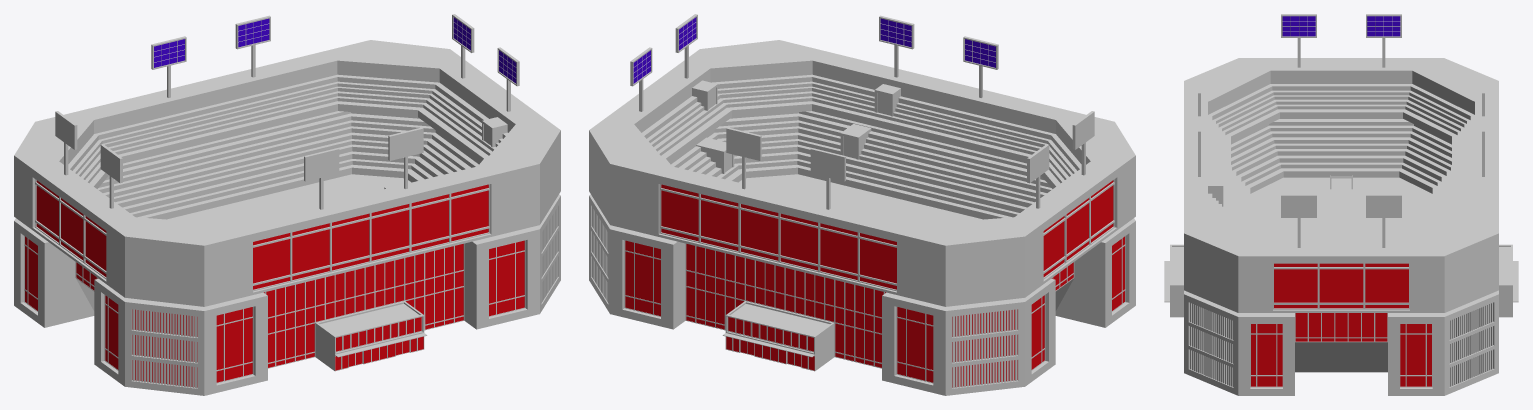
Rendered from SM_infrastructure_buildings_017.glb.
The picture shows the model from 3 angles, left to right: view 1: azimuth 30°, elevation 25°; view 2: azimuth 150°, elevation 25°; view 3: azimuth 270°, elevation 25°; orthographic projection. The views are drawn at different scales.
Visible parts, largest first — view 1: infrastructure_buildings_017; view 2: infrastructure_buildings_017; view 3: infrastructure_buildings_017.
Boxes of the visible parts, x1,y1,x2,y2 form: infrastructure_buildings_017: (14,14,560,395); infrastructure_buildings_017: (589,14,1135,395); infrastructure_buildings_017: (1164,14,1518,395).
Size of the model in its own units: 82 by 37.12 by 62.
